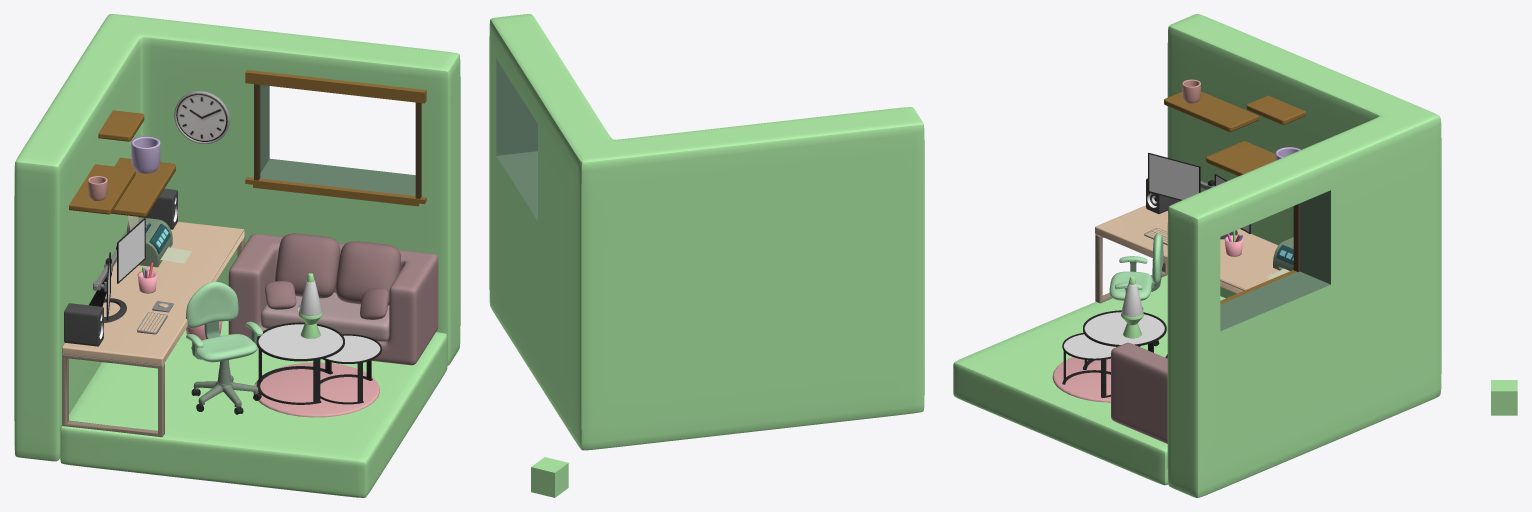
The model's file is studio.glb.
3 views of the same model, side by side, from view 1: azimuth 30°, elevation 25°; view 2: azimuth 150°, elevation 25°; view 3: azimuth 270°, elevation 25° (orthographic). The views are drawn at different scales.
Parts seen in each view (by area): view 1: Body, couch, Desk, window, Chair, mattress, clock, glass2, shelf1, shelf2, Printer, speaker1 (+11 smaller); view 2: Body, Cube; view 3: Body, Desk, couch, shelf2, screen1, mattress, Chair, glass2, shelf1, shelf3, Cube, glass1 (+3 smaller).
Boxes of the visible parts, left/top/right/bottom form: Body: left=14, top=14, right=460, bottom=497; couch: left=228, top=233, right=438, bottom=365; Desk: left=62, top=221, right=244, bottom=437; window: left=245, top=70, right=426, bottom=206; Chair: left=186, top=281, right=262, bottom=414; mattress: left=253, top=362, right=379, bottom=417; clock: left=174, top=91, right=229, bottom=144; glass2: left=258, top=324, right=342, bottom=358; shelf1: left=111, top=157, right=175, bottom=217; shelf2: left=69, top=164, right=135, bottom=214; Printer: left=120, top=215, right=191, bottom=267; speaker1: left=64, top=303, right=103, bottom=346; Body: left=489, top=14, right=924, bottom=450; Cube: left=531, top=457, right=568, bottom=497; Body: left=953, top=14, right=1441, bottom=497; Desk: left=1095, top=205, right=1279, bottom=303; couch: left=1111, top=342, right=1167, bottom=443; shelf2: left=1164, top=91, right=1258, bottom=131; screen1: left=1149, top=154, right=1198, bottom=199; mattress: left=1052, top=357, right=1110, bottom=402; Chair: left=1109, top=233, right=1163, bottom=346; glass2: left=1084, top=312, right=1164, bottom=344; shelf1: left=1206, top=141, right=1275, bottom=176; shelf3: left=1246, top=95, right=1305, bottom=124; Cube: left=1491, top=380, right=1517, bottom=415; glass1: left=1064, top=334, right=1115, bottom=358.
Size of the model in its own units: 4.92 by 3.29 by 5.7.
Materials: 34 (1 with a texture image).
